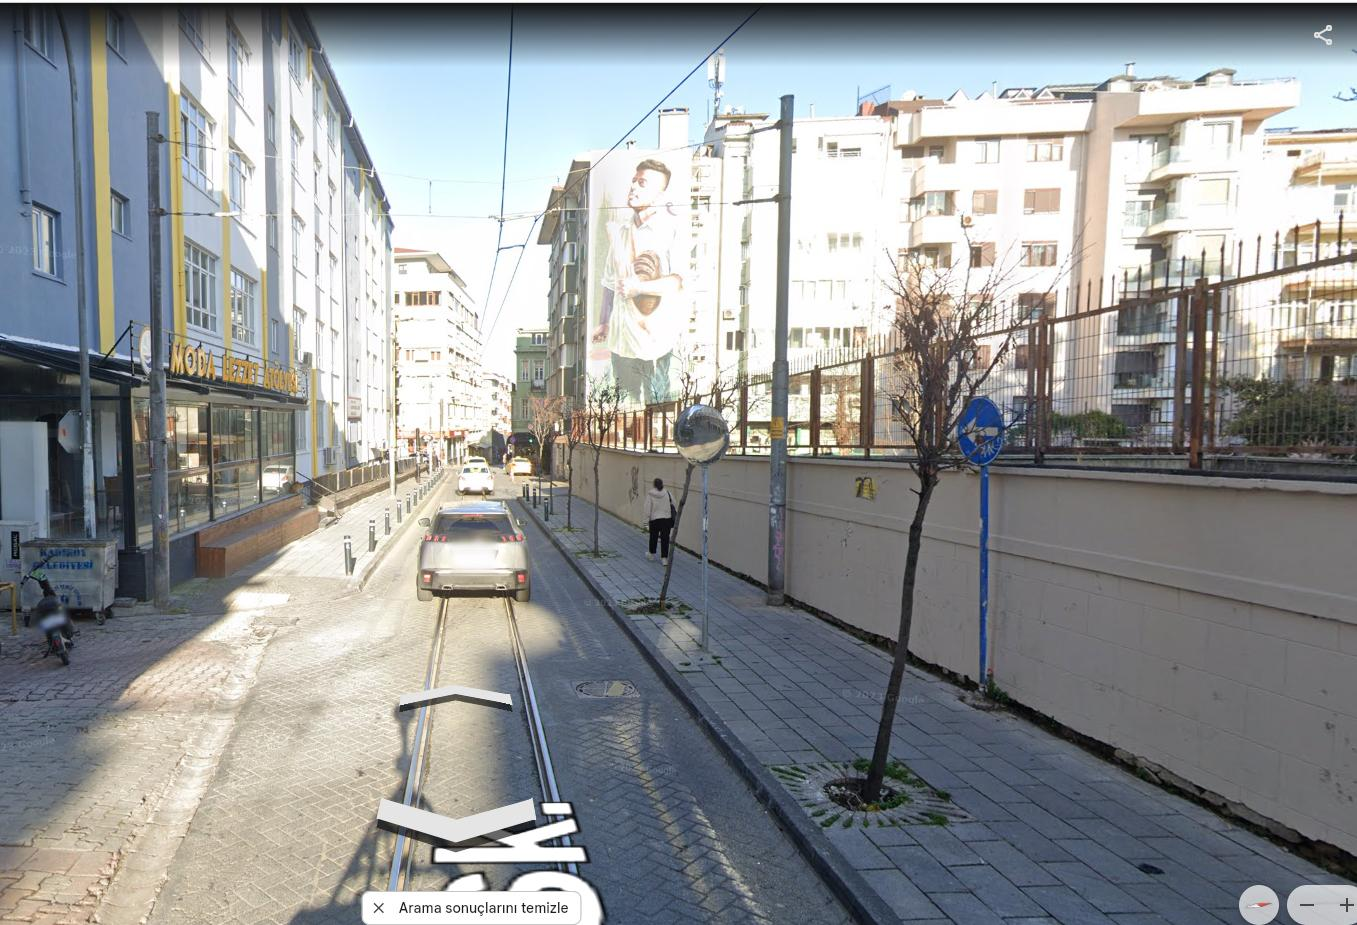turnleft: (957, 394, 1005, 465)
